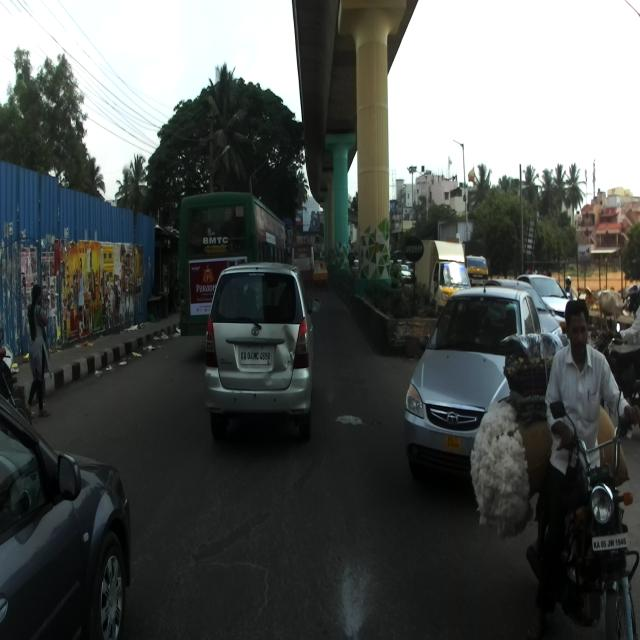car ahead at: (0, 411, 133, 640), (207, 262, 317, 438)
motorcycle ahead at: (550, 391, 639, 640)
person ahead at: (19, 283, 56, 405)
